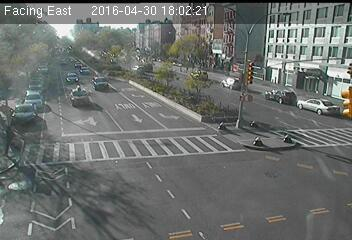neg: (90, 127, 122, 168), (144, 142, 173, 181), (166, 44, 191, 76), (250, 159, 274, 191), (136, 89, 159, 120), (229, 48, 250, 76), (253, 8, 274, 36), (222, 109, 242, 135), (294, 195, 314, 221), (139, 2, 157, 27), (117, 47, 135, 72), (279, 131, 297, 155), (310, 98, 325, 118), (272, 88, 287, 107), (276, 49, 288, 65)
